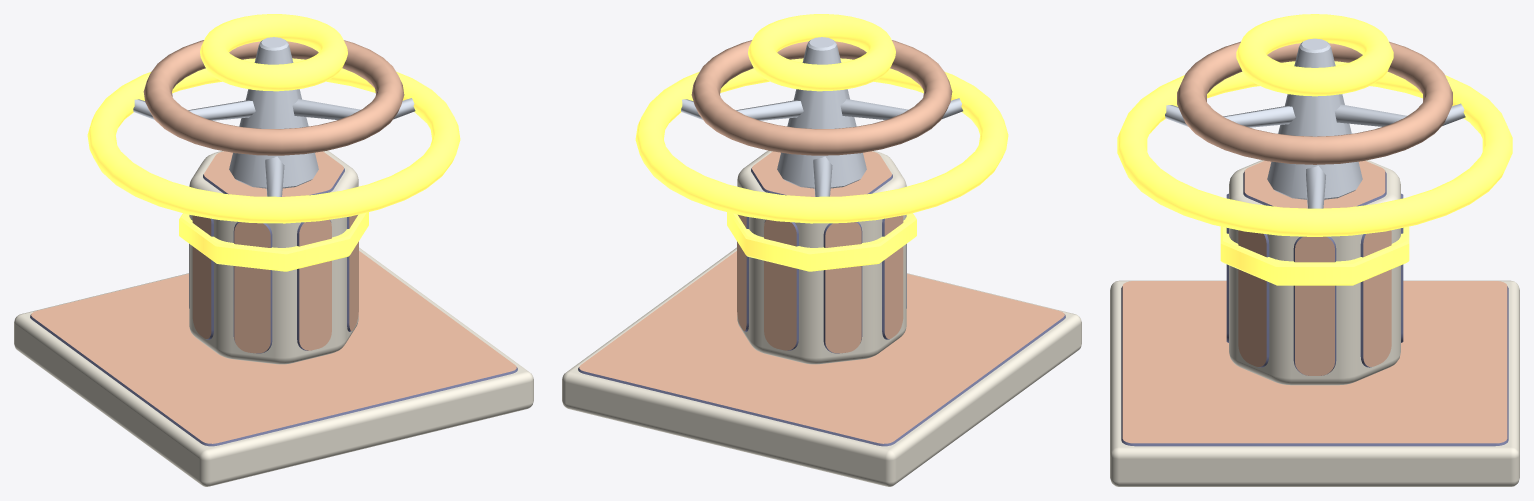
Rendered from R4X_SupportTurretDeployer.fbx.
3 views of the same model, side by side, from view 1: azimuth 30°, elevation 25°; view 2: azimuth 150°, elevation 25°; view 3: azimuth 270°, elevation 25° (orthographic). The views are drawn at different scales.
Parts seen in each view (by area): view 1: R4X_SupportTurretDeployer_Pod, R4X_SupportTurretDeployer_Body; view 2: R4X_SupportTurretDeployer_Pod, R4X_SupportTurretDeployer_Body; view 3: R4X_SupportTurretDeployer_Pod, R4X_SupportTurretDeployer_Body.
Boxes of the visible parts, box(x1,y1,x2,y2) form: R4X_SupportTurretDeployer_Pod: box(87, 14, 460, 364); R4X_SupportTurretDeployer_Body: box(14, 247, 533, 486); R4X_SupportTurretDeployer_Pod: box(635, 14, 1008, 364); R4X_SupportTurretDeployer_Body: box(562, 247, 1081, 486); R4X_SupportTurretDeployer_Pod: box(1117, 14, 1512, 385); R4X_SupportTurretDeployer_Body: box(1110, 280, 1519, 486).
Size of the model in its own units: 0.514 by 0.5039 by 0.514.
